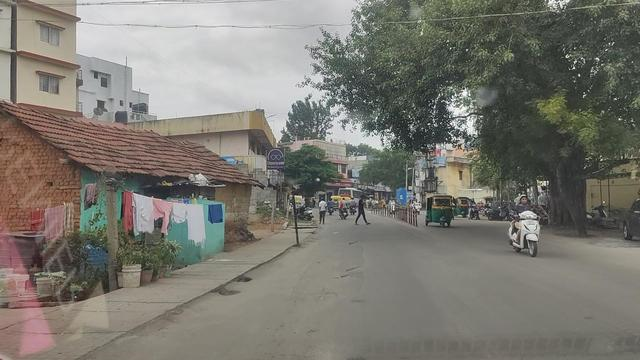RoadDamages: (313, 266, 366, 301), (212, 274, 254, 299), (345, 239, 367, 263)
